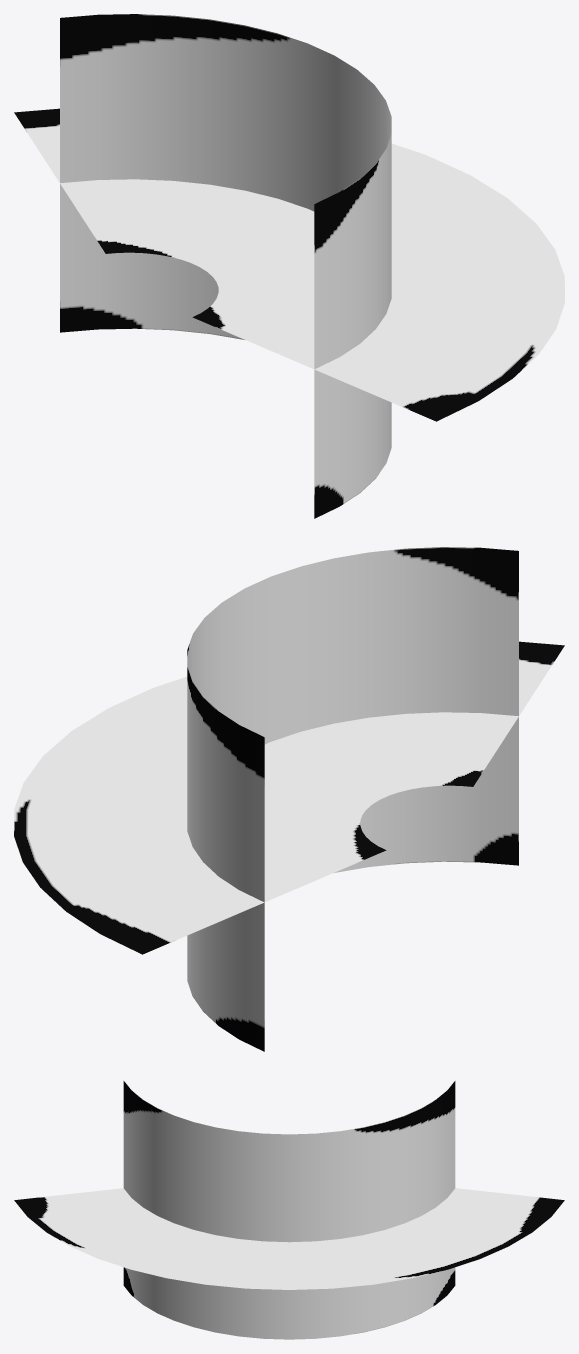
Rendered from fuchen_0624_hh_02.FBX.
The picture shows the model from 3 angles, top to bottom: view 1: azimuth 30°, elevation 25°; view 2: azimuth 150°, elevation 25°; view 3: azimuth 270°, elevation 25°; orthographic projection. The views are drawn at different scales.
Parts seen in each view (by area): view 1: fuchen_0624_hh_02; view 2: fuchen_0624_hh_02; view 3: fuchen_0624_hh_02.
Part boxes in pixels (<box>): fuchen_0624_hh_02: <box>14,14,564,518</box>; fuchen_0624_hh_02: <box>14,547,564,1051</box>; fuchen_0624_hh_02: <box>14,1081,564,1339</box>.
Size of the model in its own units: 1.79 by 1.5 by 3.65.
